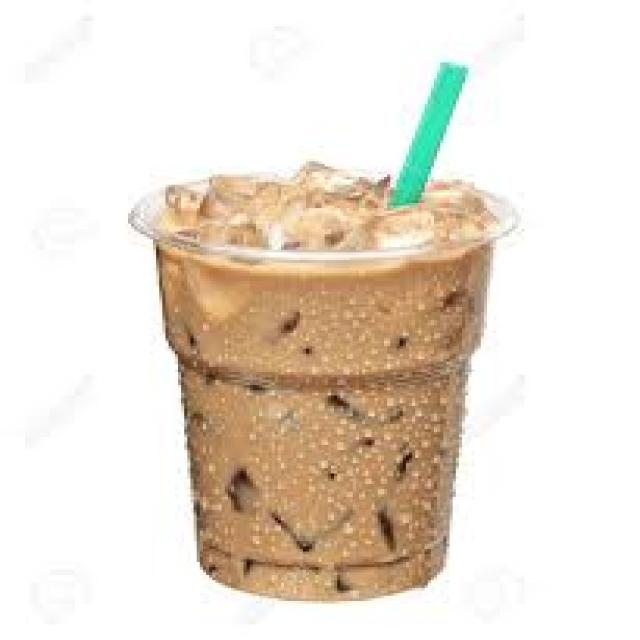bottle: (130, 163, 513, 599)
